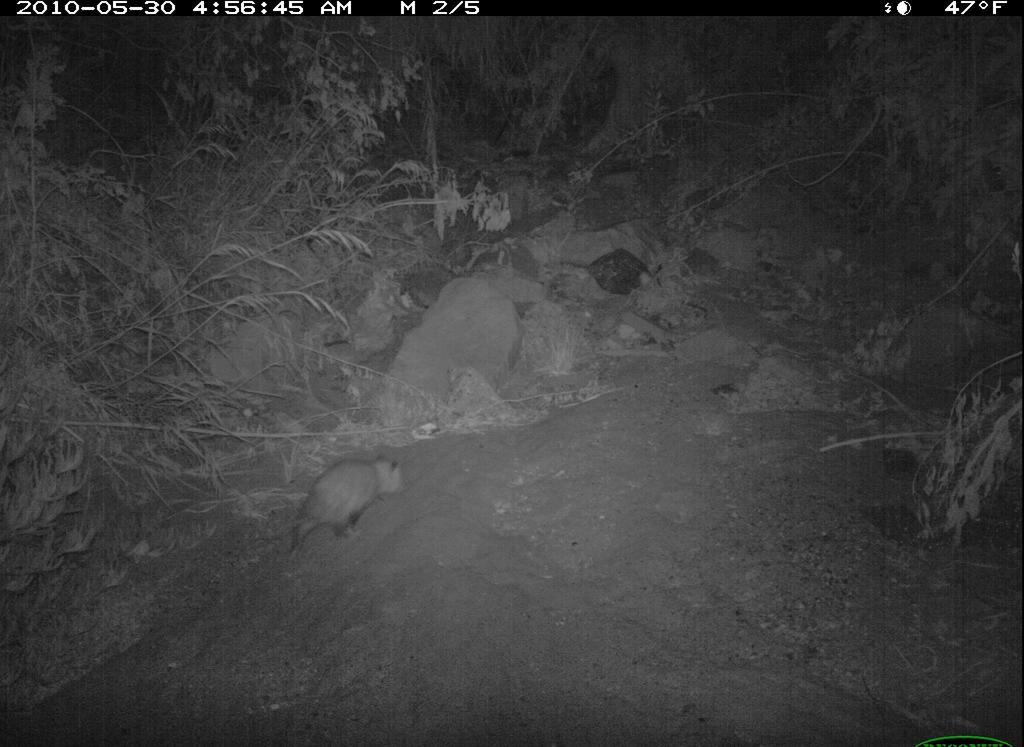opossum: (282, 455, 410, 556)
